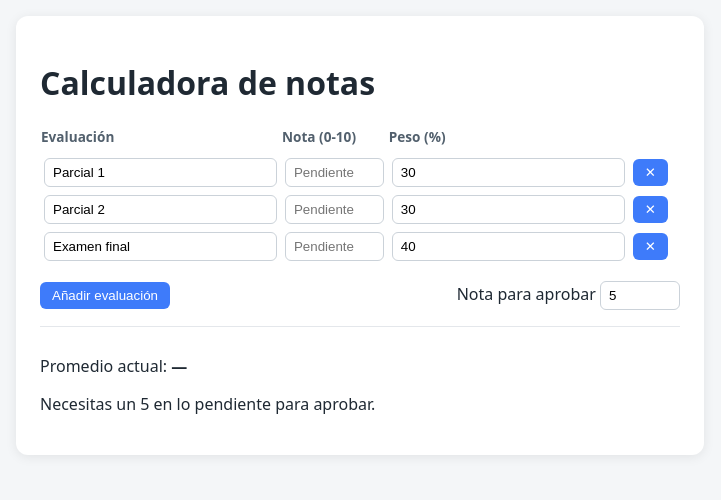
Scenario: App › muestra APROBADO cuando todas las notas llegan al mínimo
The width and height of the screenshot is (721, 500).
Type "5" into the 1st number field with placeholder "Pendiente" at [334, 172], box [285, 158, 384, 187]
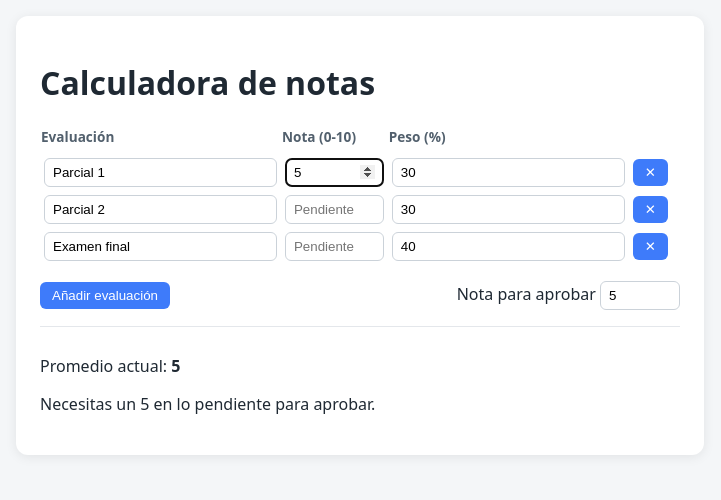
Type "6" into the 1st number field with placeholder "Pendiente" at [334, 209], box [285, 195, 384, 224]
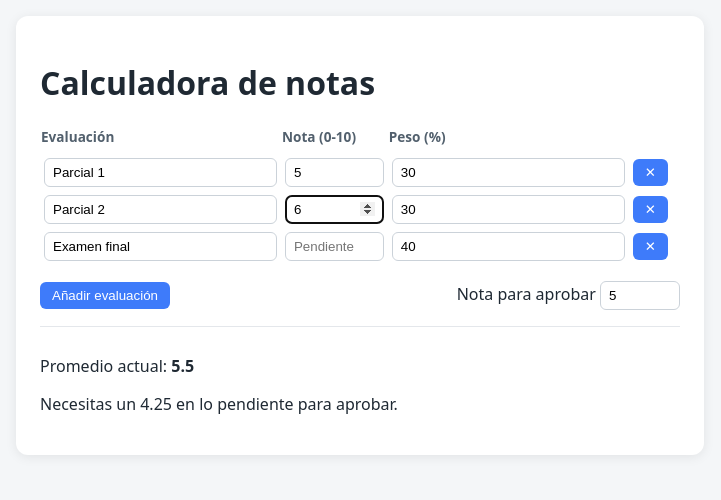
Type "7" into the number field with placeholder "Pendiente" at [334, 246], box [285, 232, 384, 261]
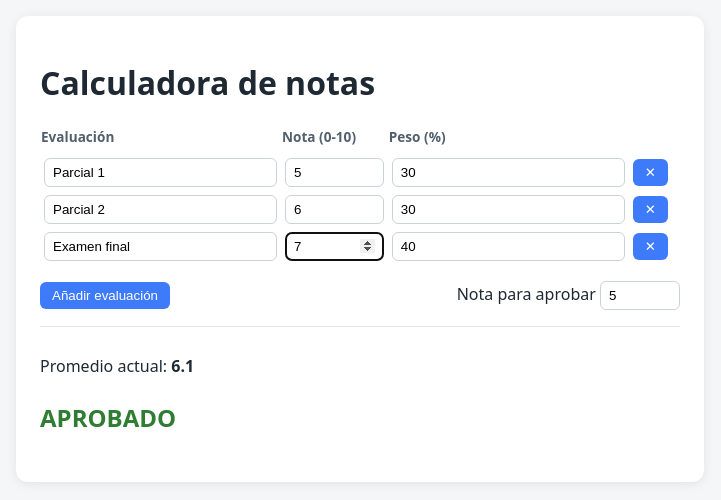
Now the text with test id "estado" reads "APROBADO", box [40, 401, 176, 434]
